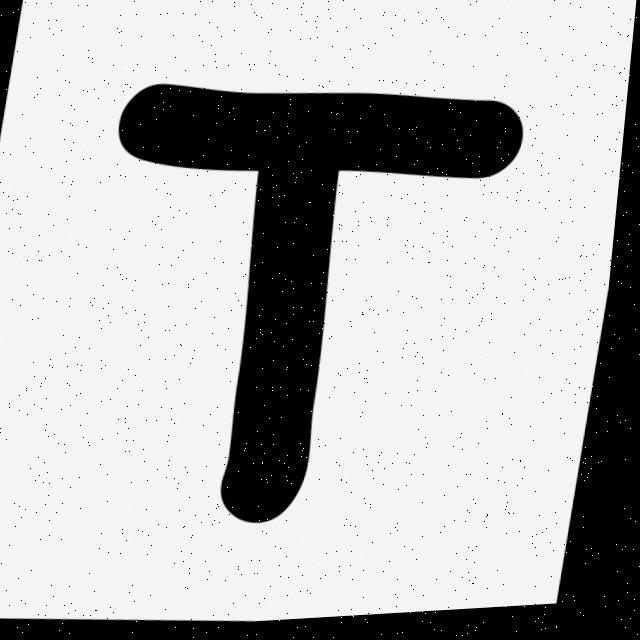T: (121, 86, 526, 525)
